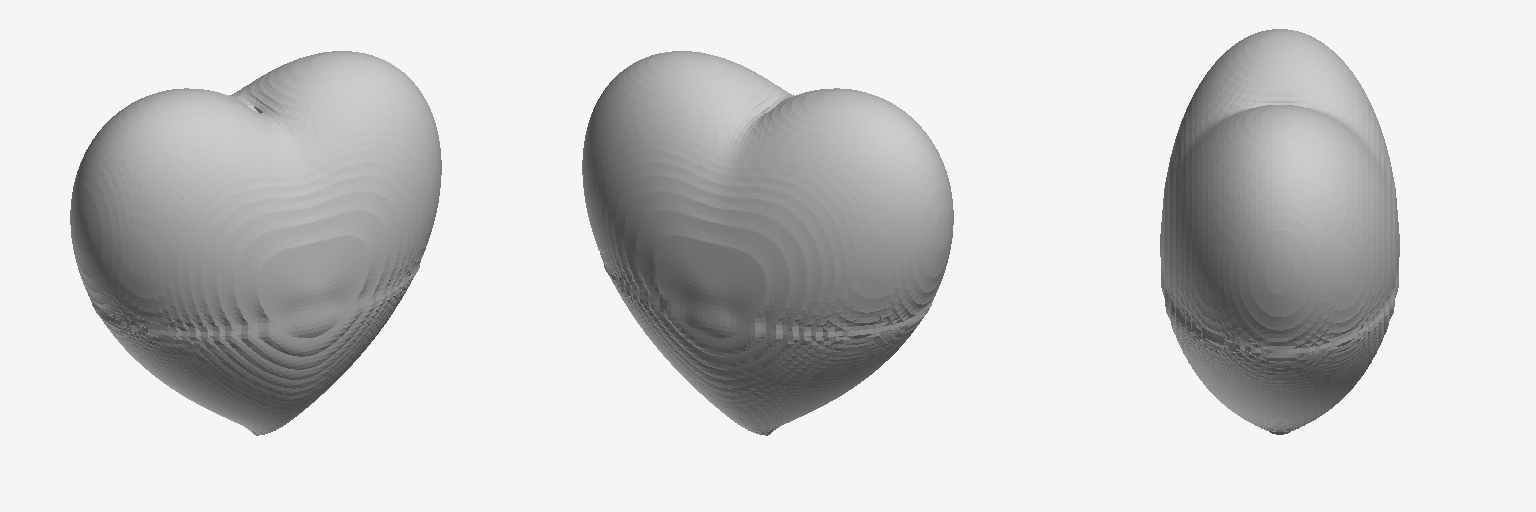
File: aixin_rightpose.obj
The picture shows the model from 3 angles: view 1: azimuth 30°, elevation 25°; view 2: azimuth 150°, elevation 25°; view 3: azimuth 270°, elevation 25°; orthographic projection.
Size of the model in its own units: 2.28 by 2.21 by 1.35.